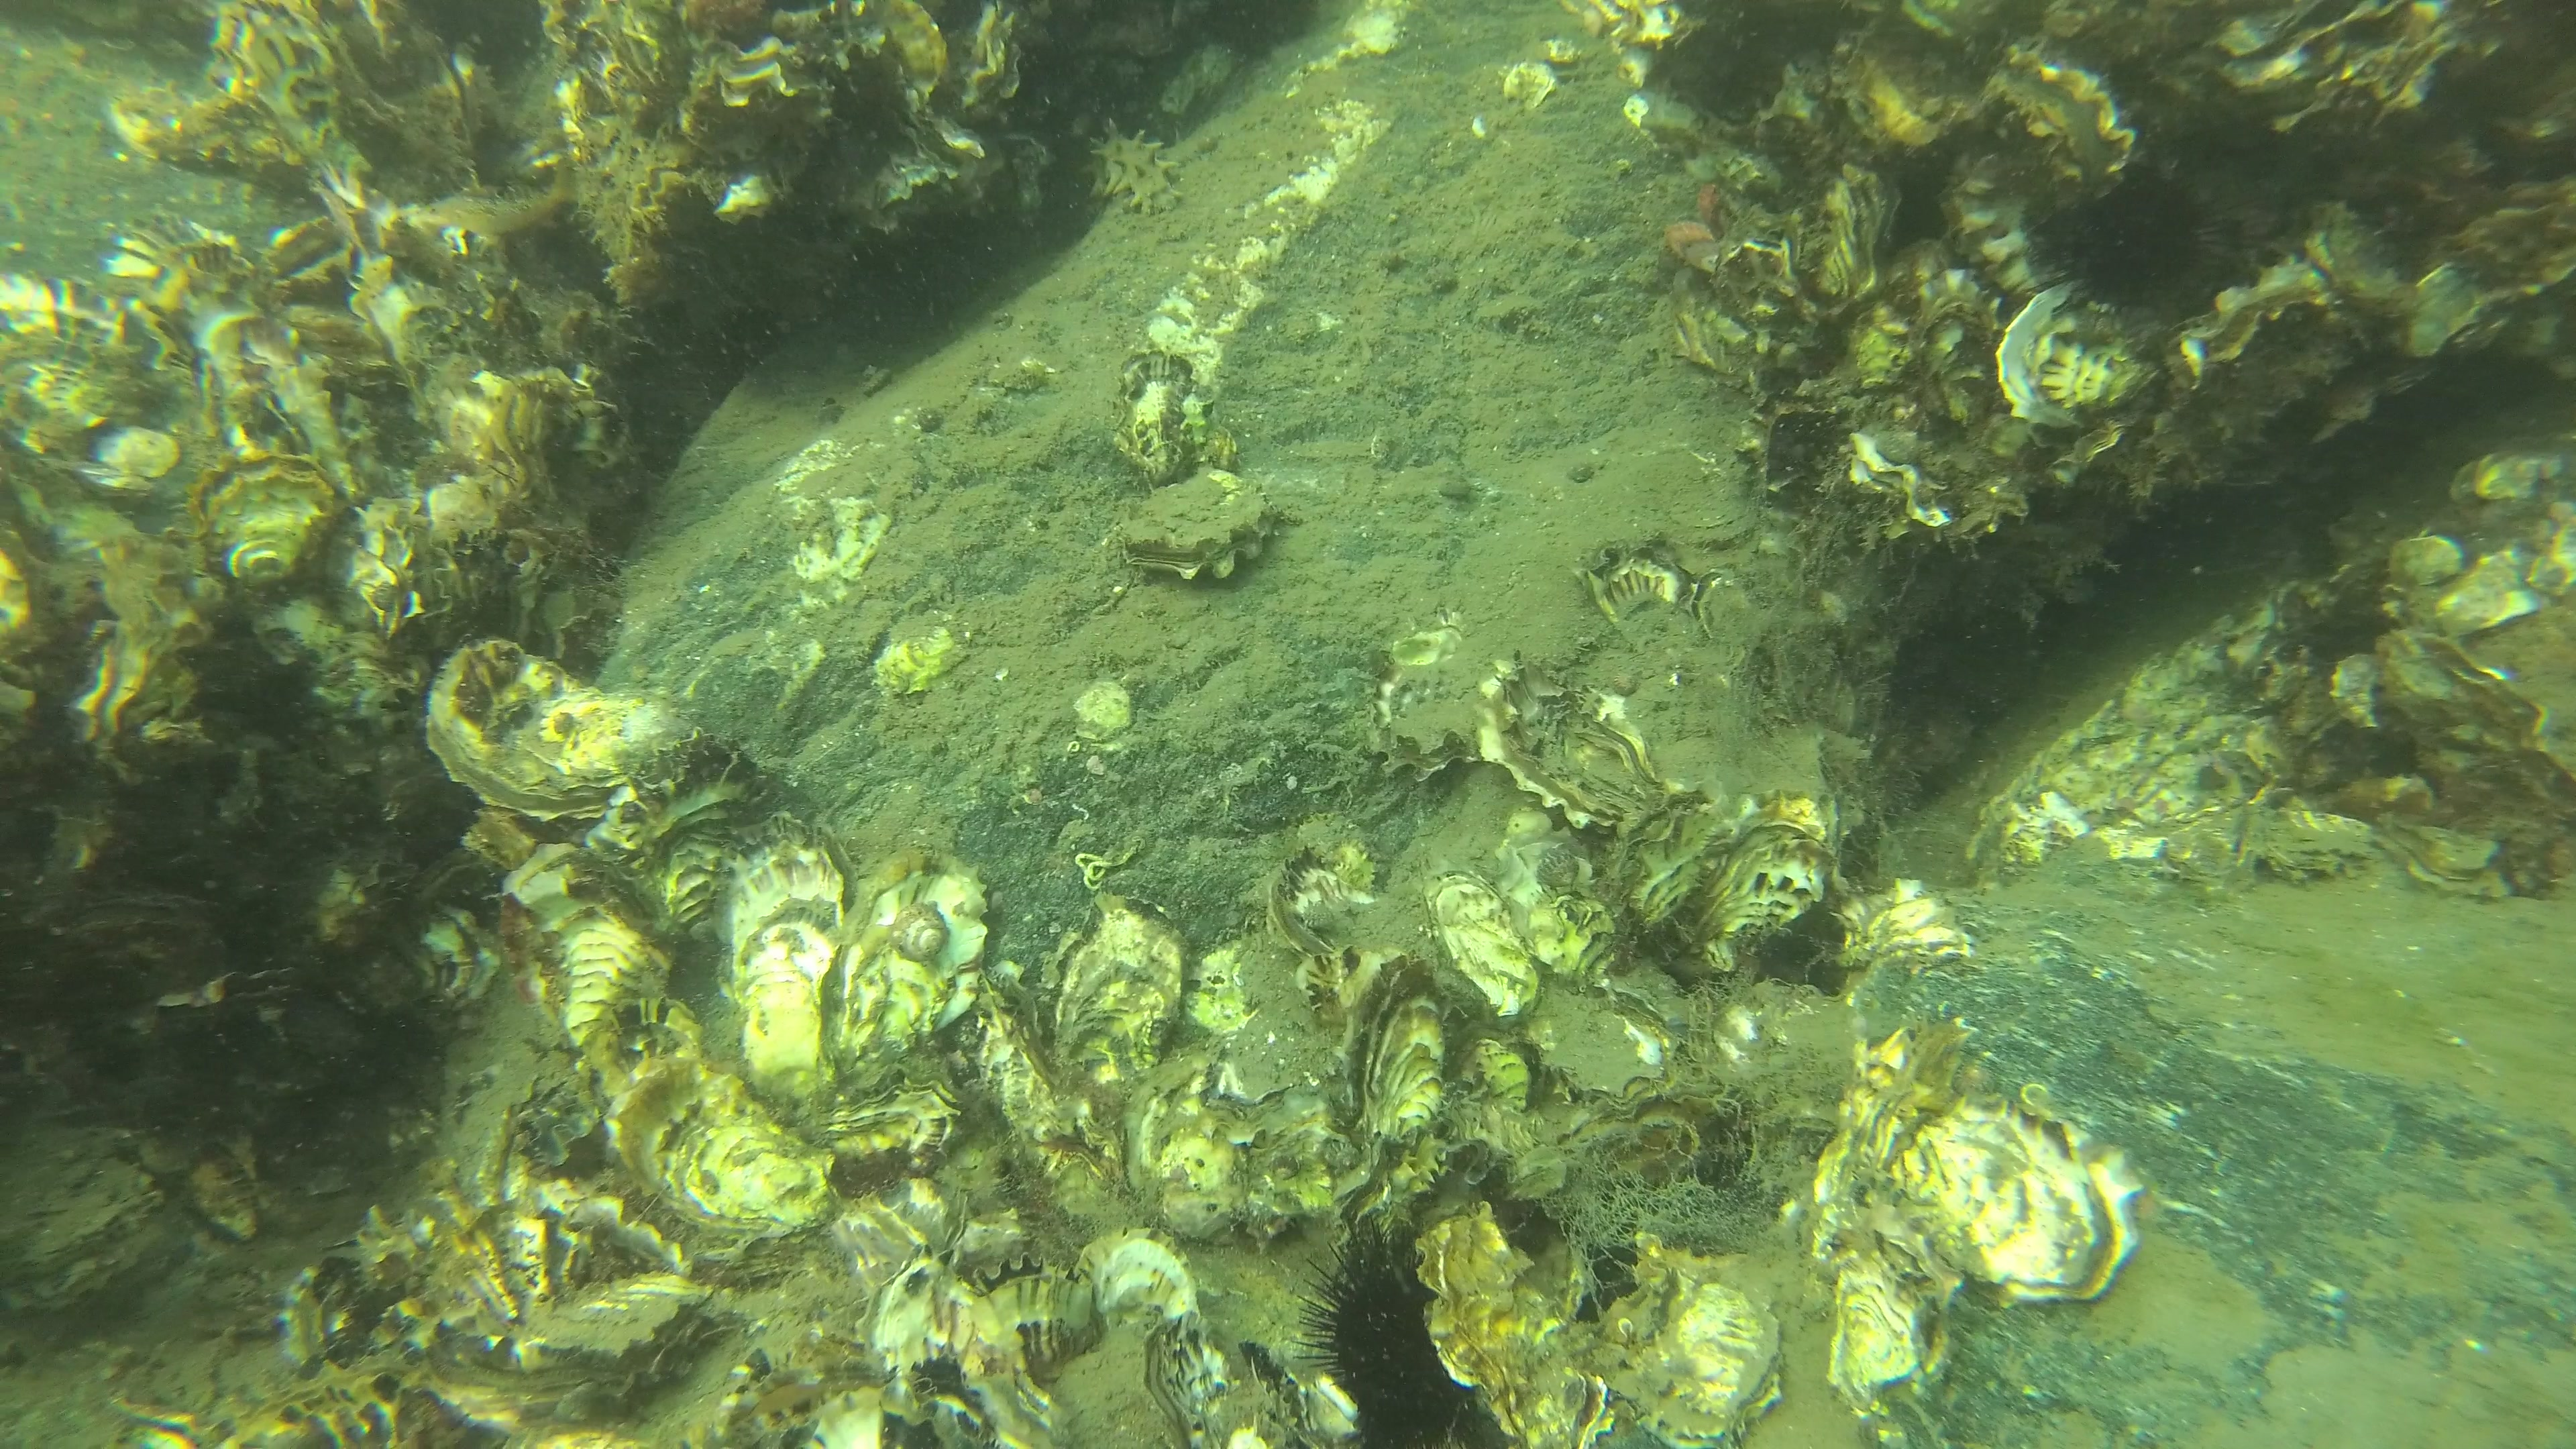echinus: (1292, 1221, 1465, 1449)
holothurian: (1090, 124, 1187, 221)
